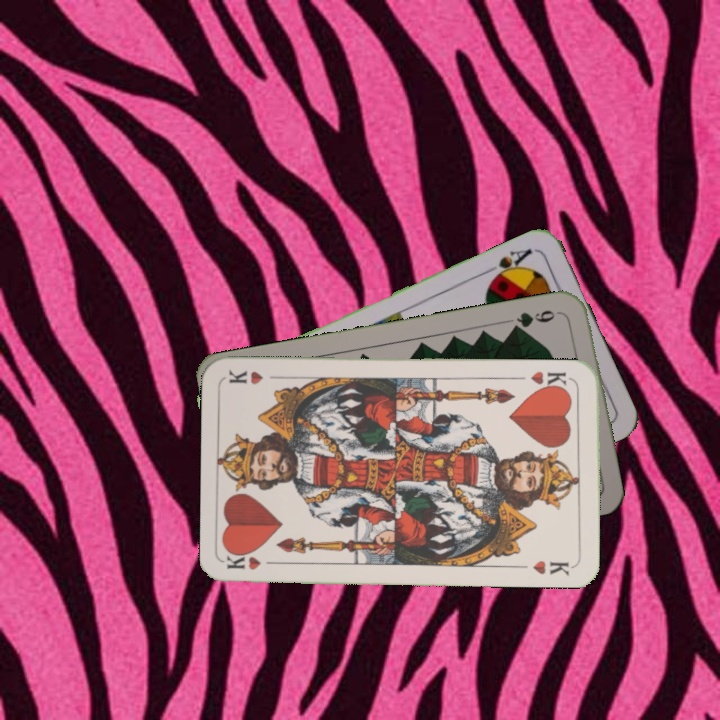G9: (507, 306, 565, 334)
HK: (224, 549, 283, 573), (527, 367, 575, 393)
SA: (481, 244, 535, 285)
